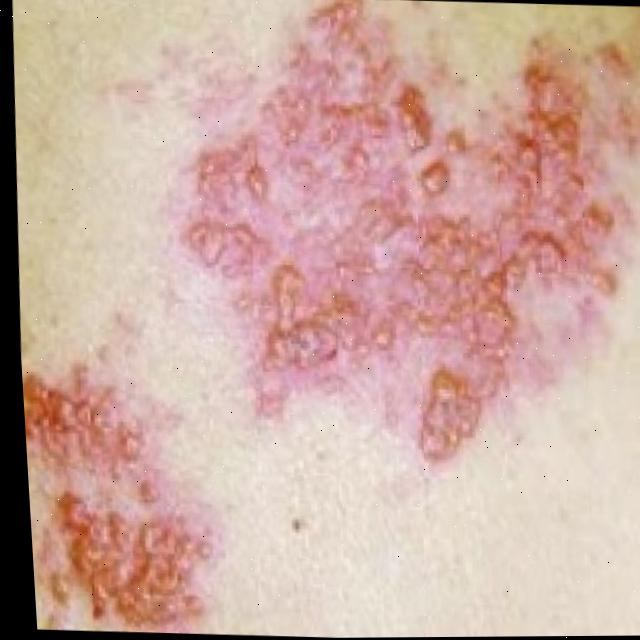Shingles: (189, 19, 634, 416), (24, 406, 219, 628)
